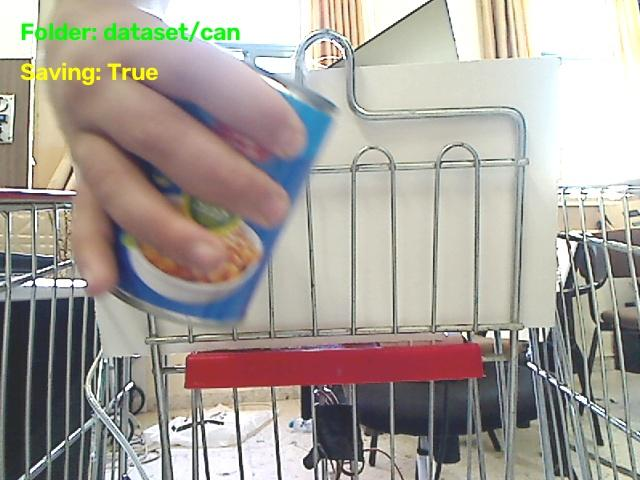can: (115, 160, 280, 322)
